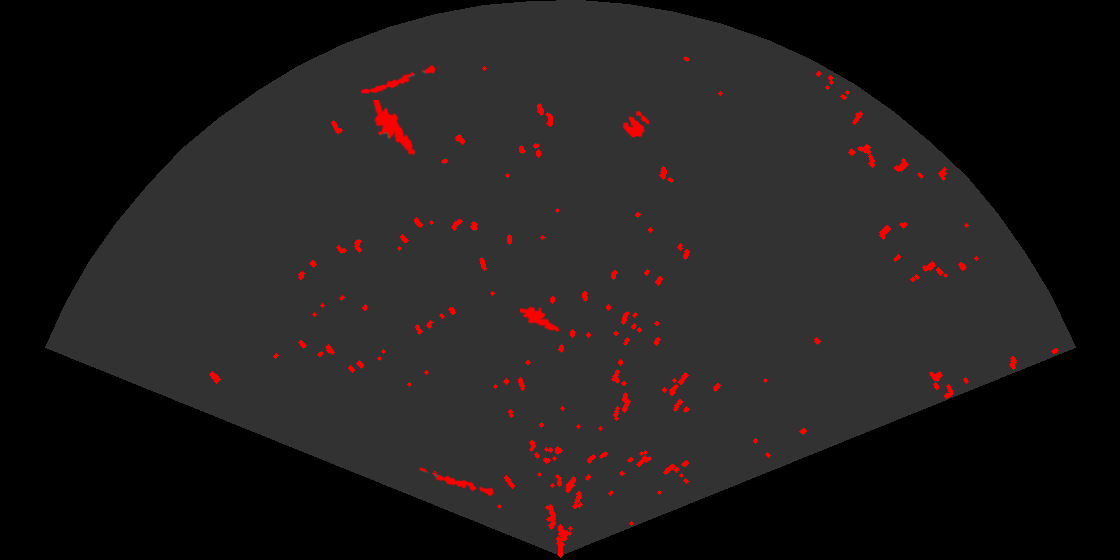ball: (621, 109, 651, 139)
chain: (358, 63, 441, 96), (417, 466, 496, 498)
frogman: (371, 100, 417, 157), (520, 305, 563, 333)
